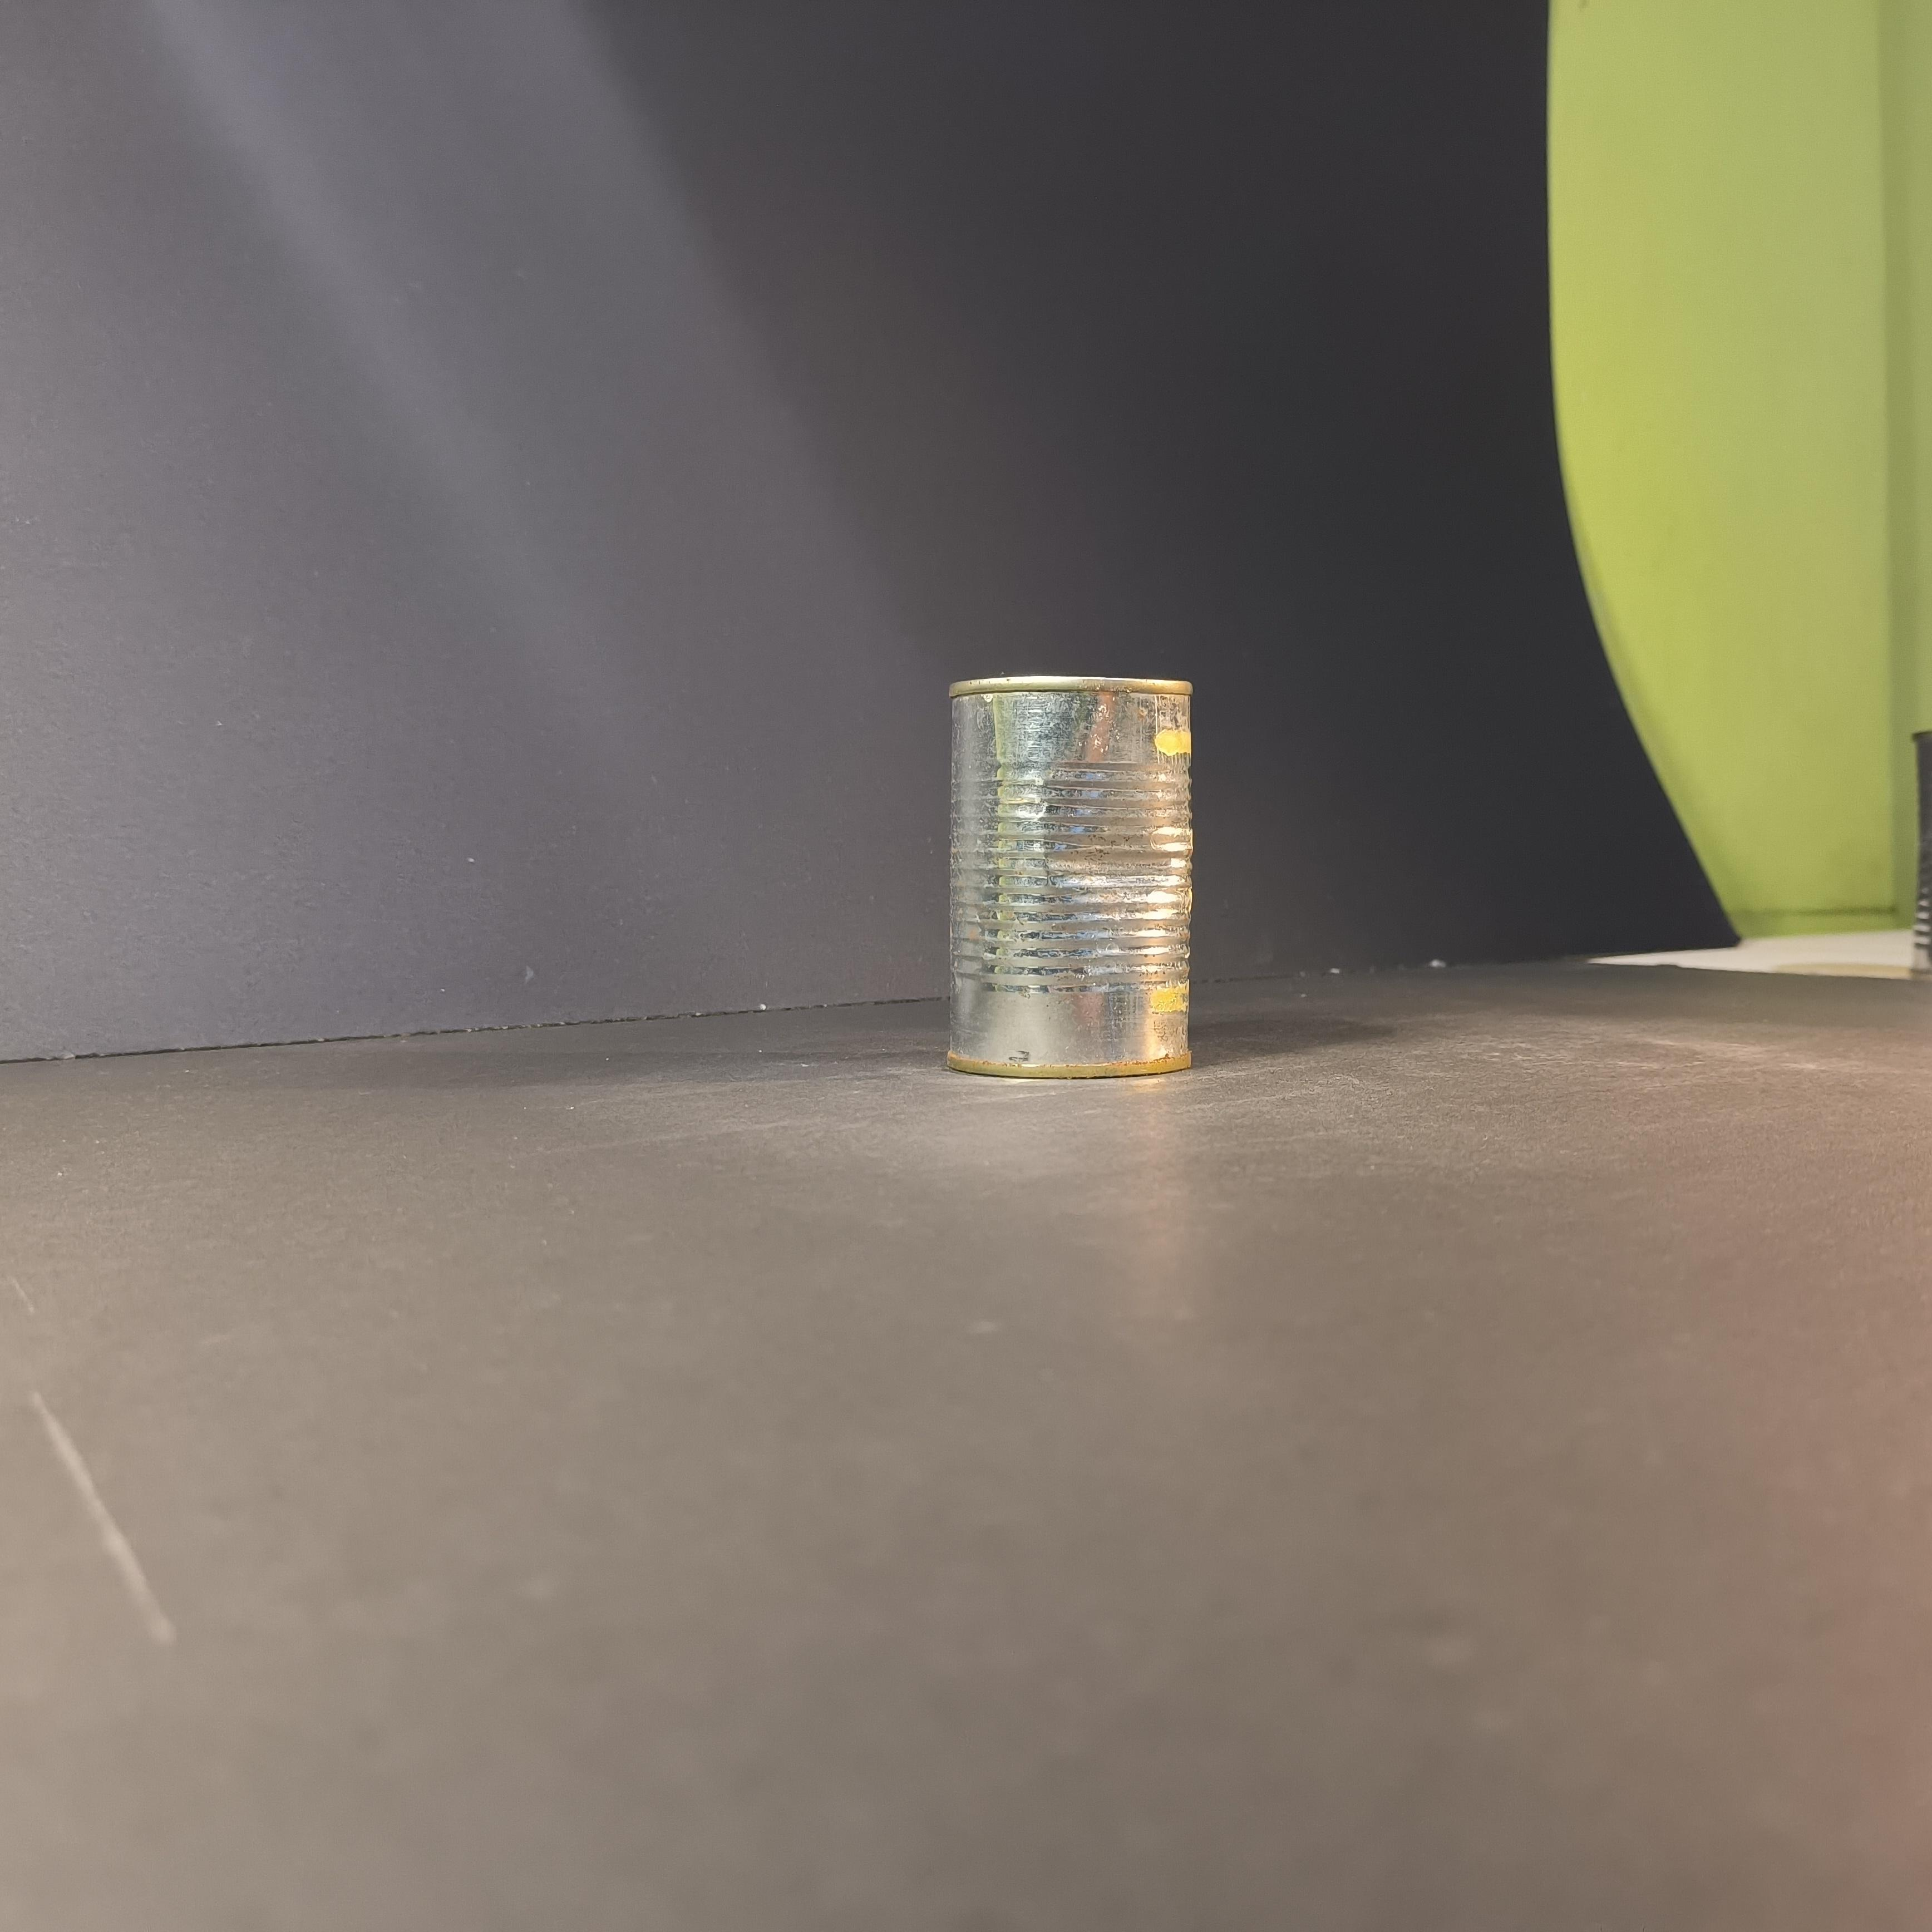Dented: (932, 642, 1210, 1090)
